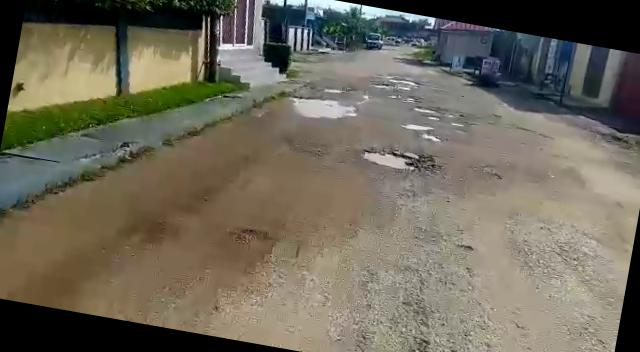pothole: (357, 141, 435, 176), (290, 91, 360, 126), (402, 121, 434, 133), (419, 131, 444, 143)
